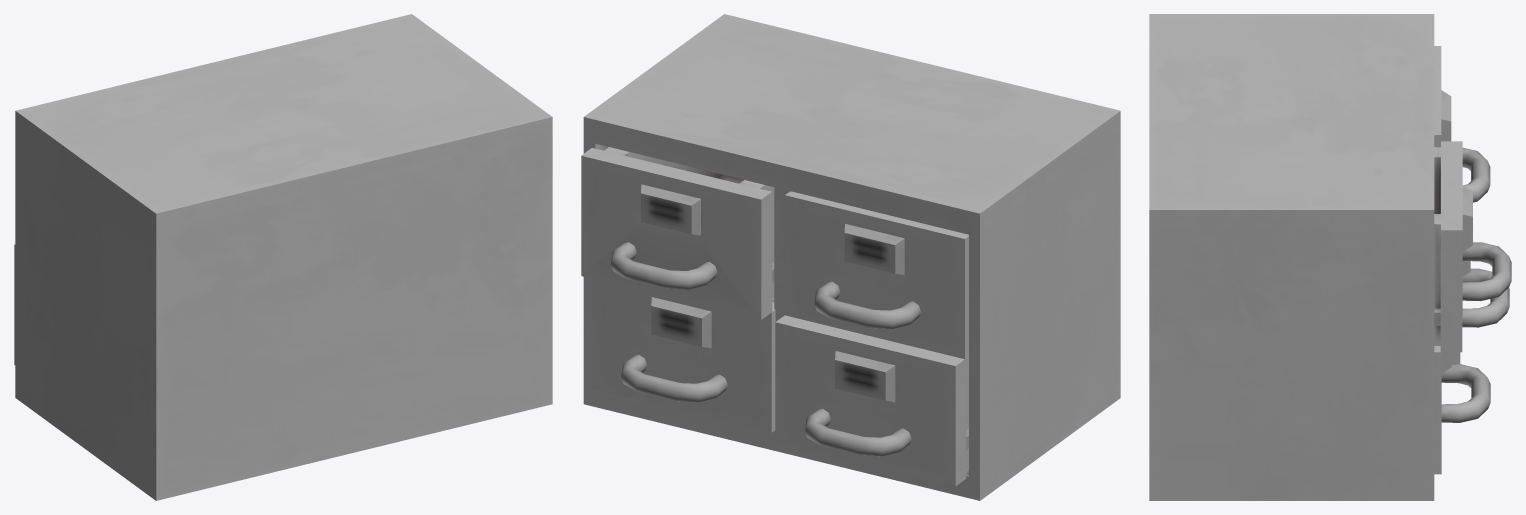
Rendered from Pfb_FileCabient_S2.fbx.
3 renders of one model, left to right at view 1: azimuth 30°, elevation 25°; view 2: azimuth 150°, elevation 25°; view 3: azimuth 270°, elevation 25°, orthographic.
Visible parts, largest first — view 1: Mat_FileCabient 1; view 2: Mat_FileCabient 1; view 3: Mat_FileCabient 1.
Part boxes in pixels (box(x1,y1,x2,y2)): Mat_FileCabient 1: box(14, 14, 552, 500); Mat_FileCabient 1: box(581, 14, 1120, 500); Mat_FileCabient 1: box(1149, 14, 1511, 500).
Size of the model in its own units: 1.25 by 0.8656 by 0.9773.
Materials: 1 (1 with a texture image).
